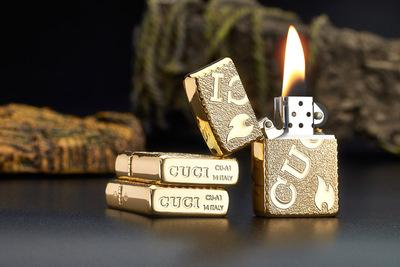Fire: (280, 22, 311, 98)
